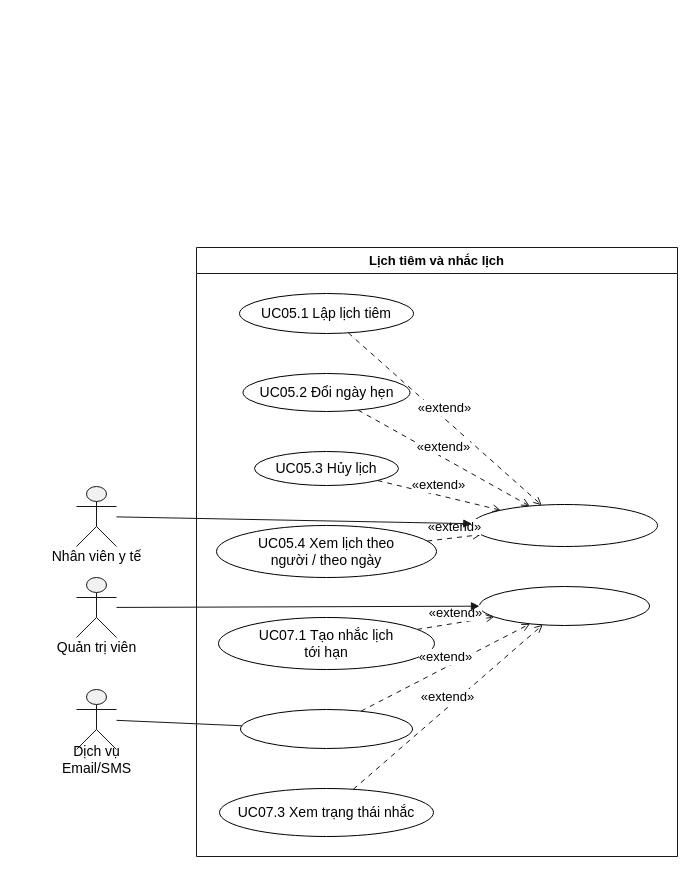
This 695x874 diagram has some shape labels left out. The centre of each missing label's shape, as x and y in pixels:
UC05 Quản lý lịch tiêm: (x=564, y=525)
UC07 Nhắc lịch tiêm: (x=564, y=606)
UC07.2 Gửi nhắc lịch: (x=326, y=728)
